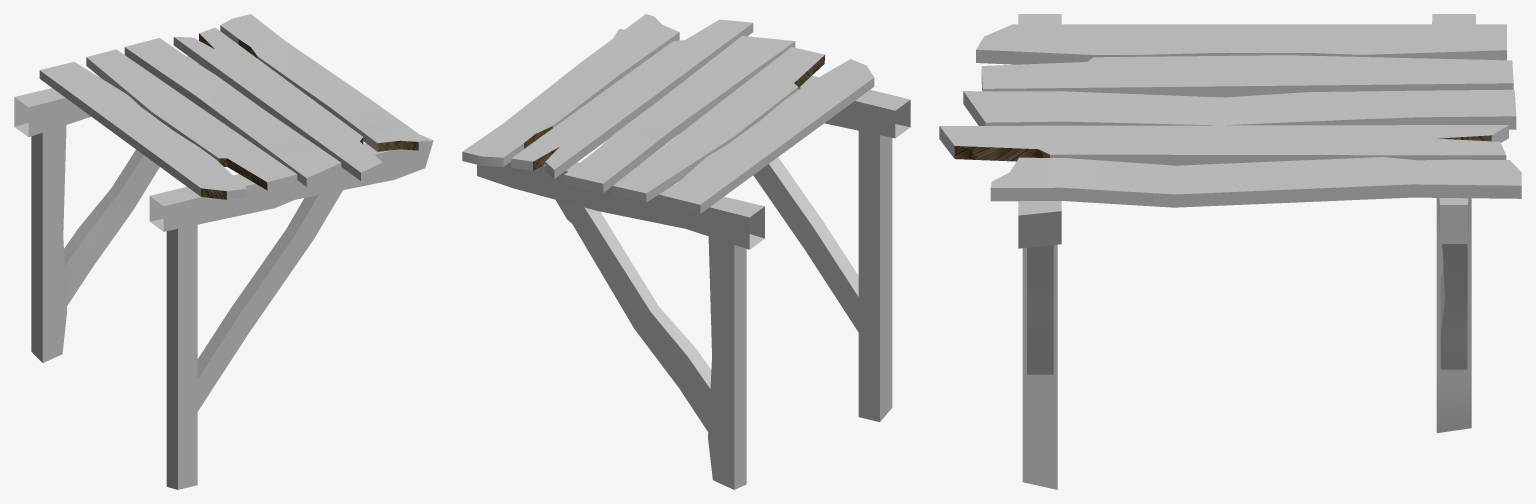
Rendered from lower_city_wood_platform_01.fbx.
3 views of the same model, side by side, from view 1: azimuth 30°, elevation 25°; view 2: azimuth 150°, elevation 25°; view 3: azimuth 270°, elevation 25° (orthographic). The views are drawn at different scales.
Visible parts, largest first — view 1: lower_city_wood_platform_01; view 2: lower_city_wood_platform_01; view 3: lower_city_wood_platform_01.
Boxes of the visible parts, x1,y1,x2,y2 form: lower_city_wood_platform_01: (14,14,433,489); lower_city_wood_platform_01: (462,14,910,489); lower_city_wood_platform_01: (939,14,1521,489).
Bounding box in the file's own units: 1.72 × 1.85 × 2.1.
